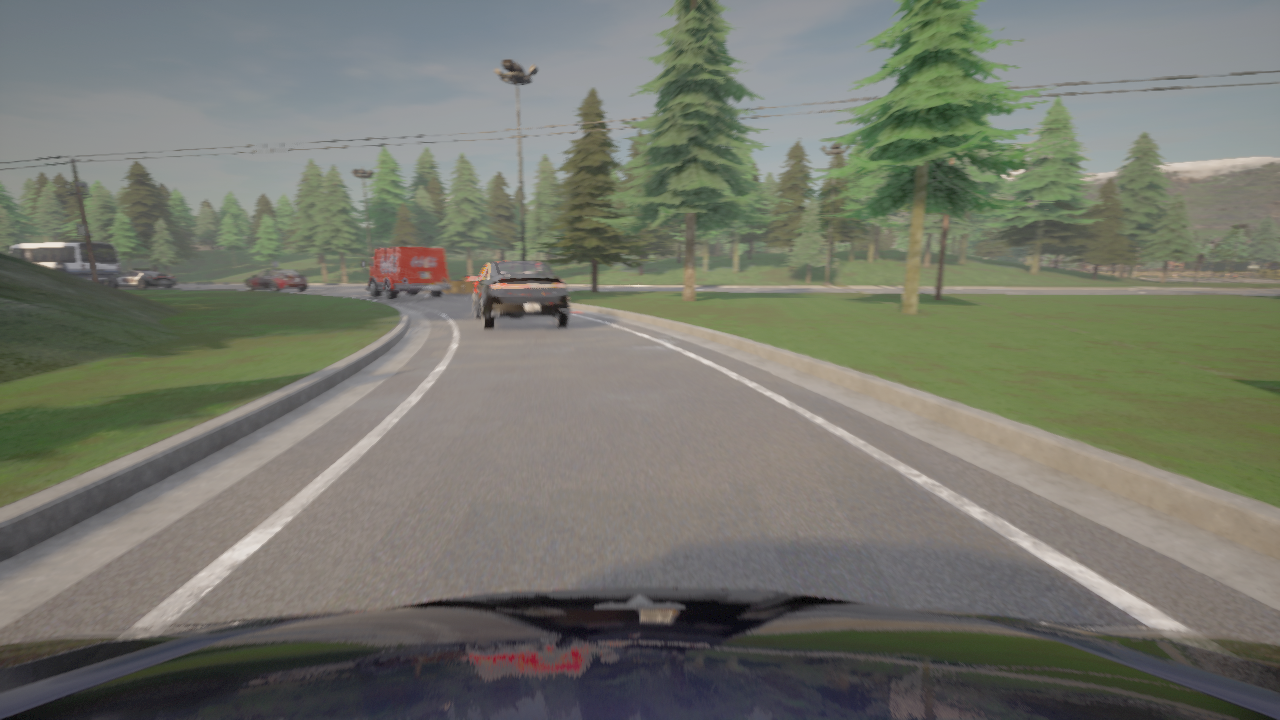cyclist: (0, 588, 1279, 719), (468, 261, 569, 329), (361, 246, 450, 299), (10, 242, 121, 284), (107, 269, 176, 288), (245, 270, 307, 291)
